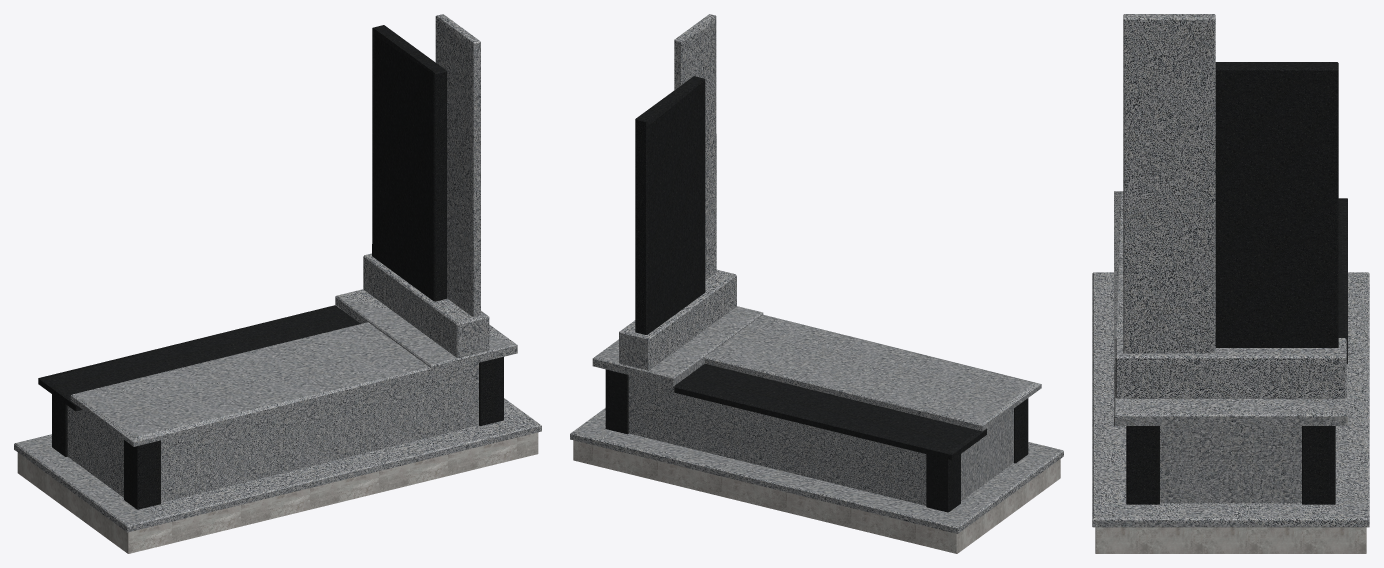
Rendered from pamyatnyk_1.glb.
3 views of the same model, side by side, from view 1: azimuth 30°, elevation 25°; view 2: azimuth 150°, elevation 25°; view 3: azimuth 270°, elevation 25° (orthographic). The views are drawn at different scales.
Visible parts, largest first — view 1: фундамент; view 2: фундамент; view 3: фундамент.
Boxes of the visible parts, x1=… form: фундамент: x1=14, y1=14, x2=541, y2=553; фундамент: x1=570, y1=14, x2=1063, y2=553; фундамент: x1=1092, y1=14, x2=1369, y2=553.
Bounding box in the file's own units: 1.9 × 1.82 × 0.9.
Materials: 3 (3 with a texture image).
